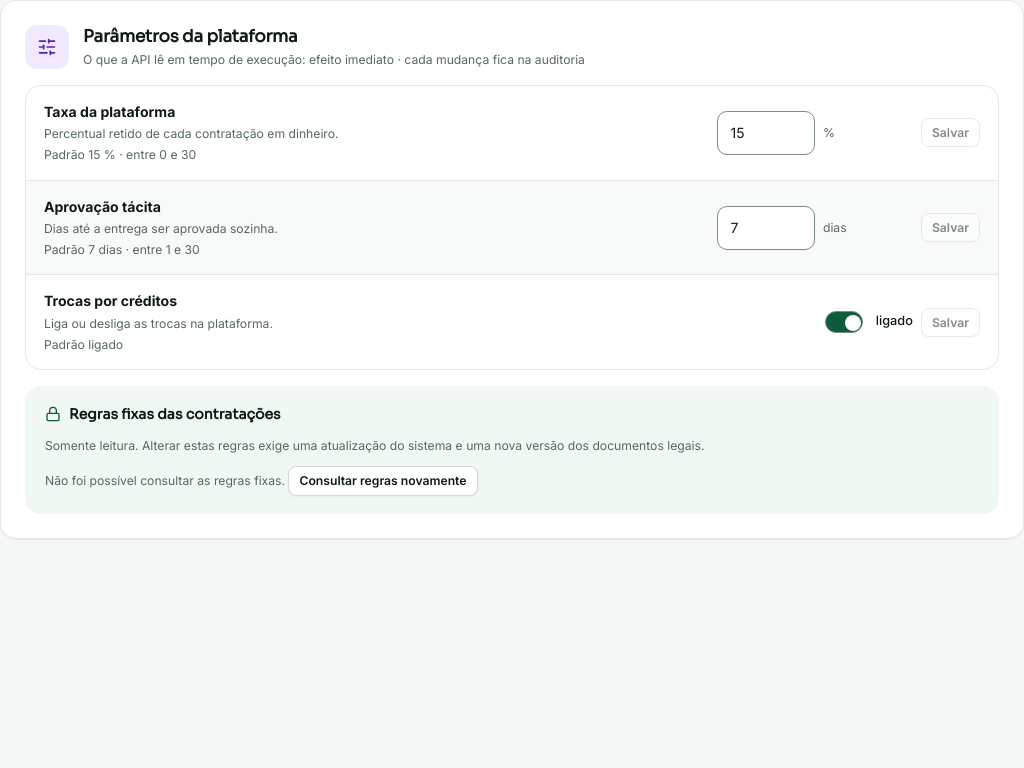
Test: SettingsSection › falha na consulta das regras permite tentar de novo sem impedir os parâmetros editáveis
Expected: the number field named "Taxa da plataforma" holds "15", x1=717 y1=111 x2=815 y2=155
What coordinates should you click on to do the following:
click the button "Consultar regras novamente"
I would click on:
 (383, 481)
Its box is x1=288 y1=466 x2=478 y2=496.
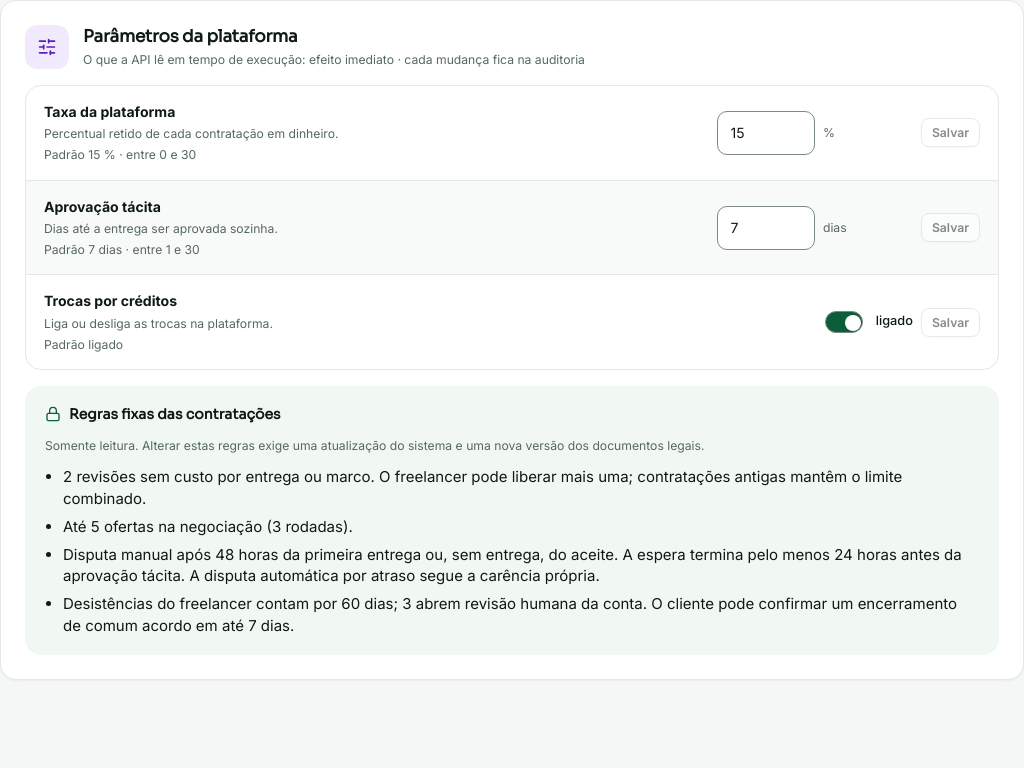
Now the list item "2 revisões sem custo" is shown, box x1=63 y1=466 x2=979 y2=510
